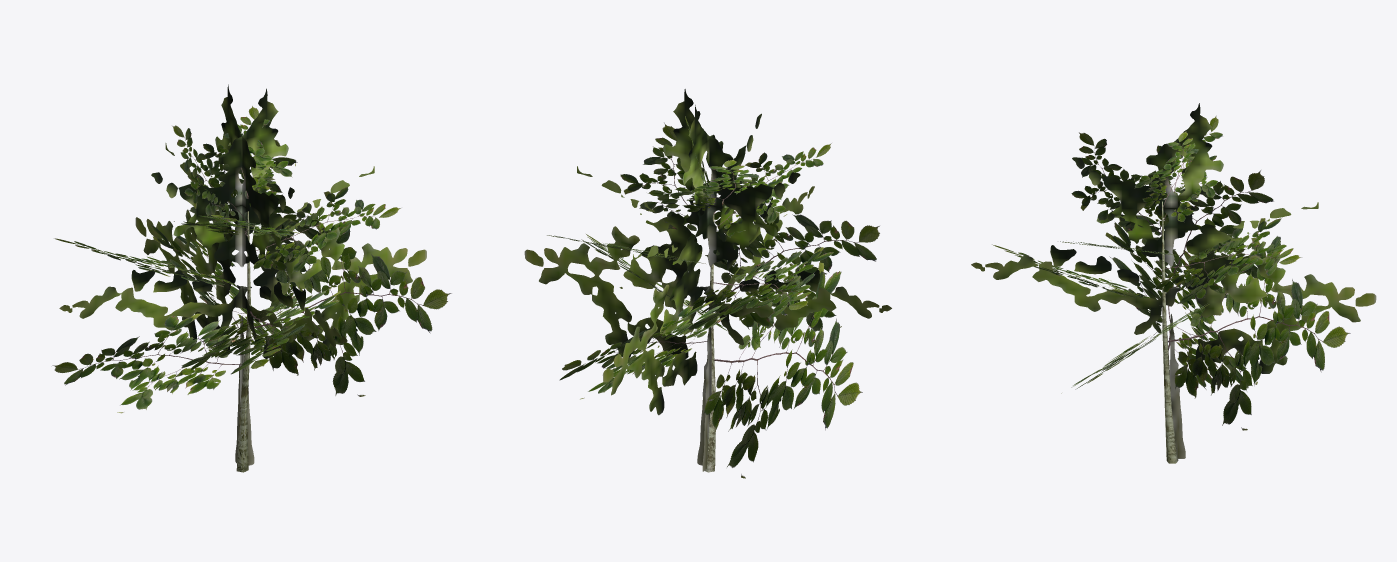
The model's file is Tree-Beech5A.fbx.
3 renders of one model, left to right at view 1: azimuth 30°, elevation 25°; view 2: azimuth 150°, elevation 25°; view 3: azimuth 270°, elevation 25°, orthographic. The views are drawn at different scales.
Parts seen in each view (by area): view 1: Tree-Beech5A_LOD0, Billboard-BeechA; view 2: Tree-Beech5A_LOD0, Billboard-BeechA; view 3: Tree-Beech5A_LOD0, Billboard-BeechA.
Part boxes in pixels (x1,y1,x2,y2): Tree-Beech5A_LOD0: (52,106,451,472); Billboard-BeechA: (59,84,426,465); Tree-Beech5A_LOD0: (547,116,879,478); Billboard-BeechA: (524,89,891,471); Tree-Beech5A_LOD0: (992,115,1350,463); Billboard-BeechA: (971,103,1376,458).
Size of what is drawn, in the model's own units: 709 by 667 by 714.
